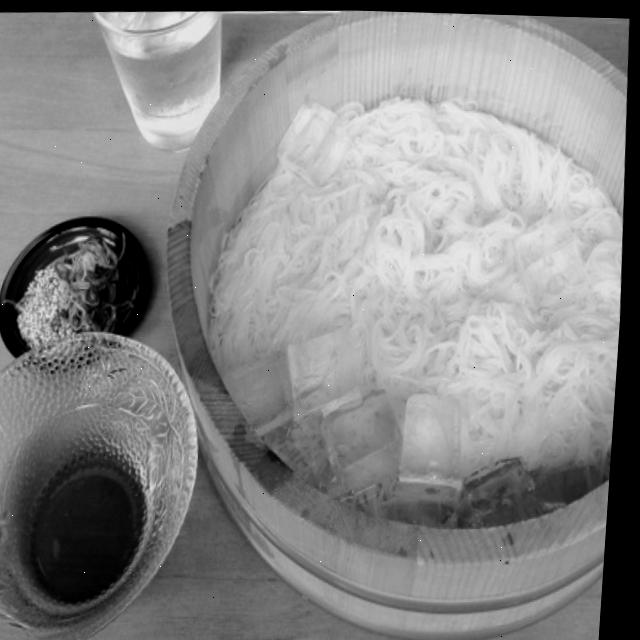面条主食: (153, 4, 640, 607)
